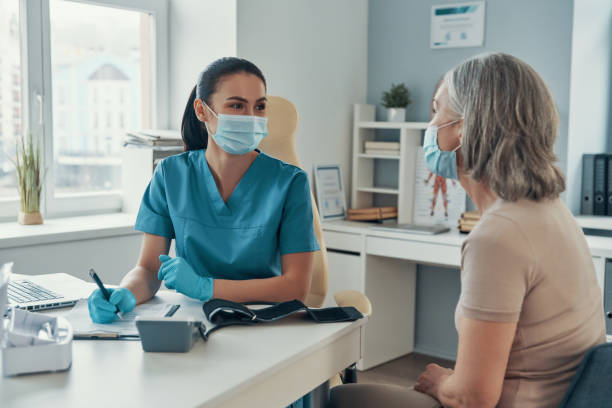with mask: (419, 72, 519, 183), (188, 63, 280, 159)
